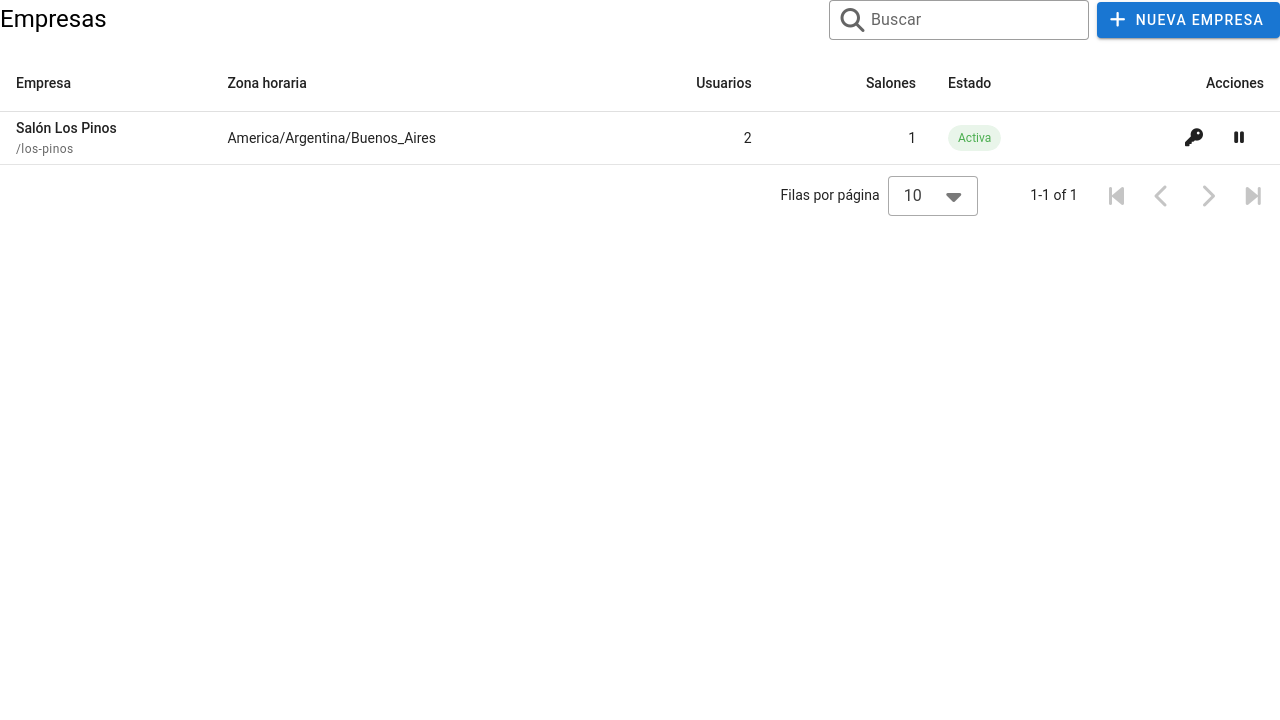
Scenario: EmpresasPlataforma › resetear la clave del dueño › con un único dueño: confirma, genera la clave y la muestra
Click the button named "Resetear la clave del dueño de Salón Los Pinos". click: (1194, 138)
box: [1174, 118, 1214, 158]
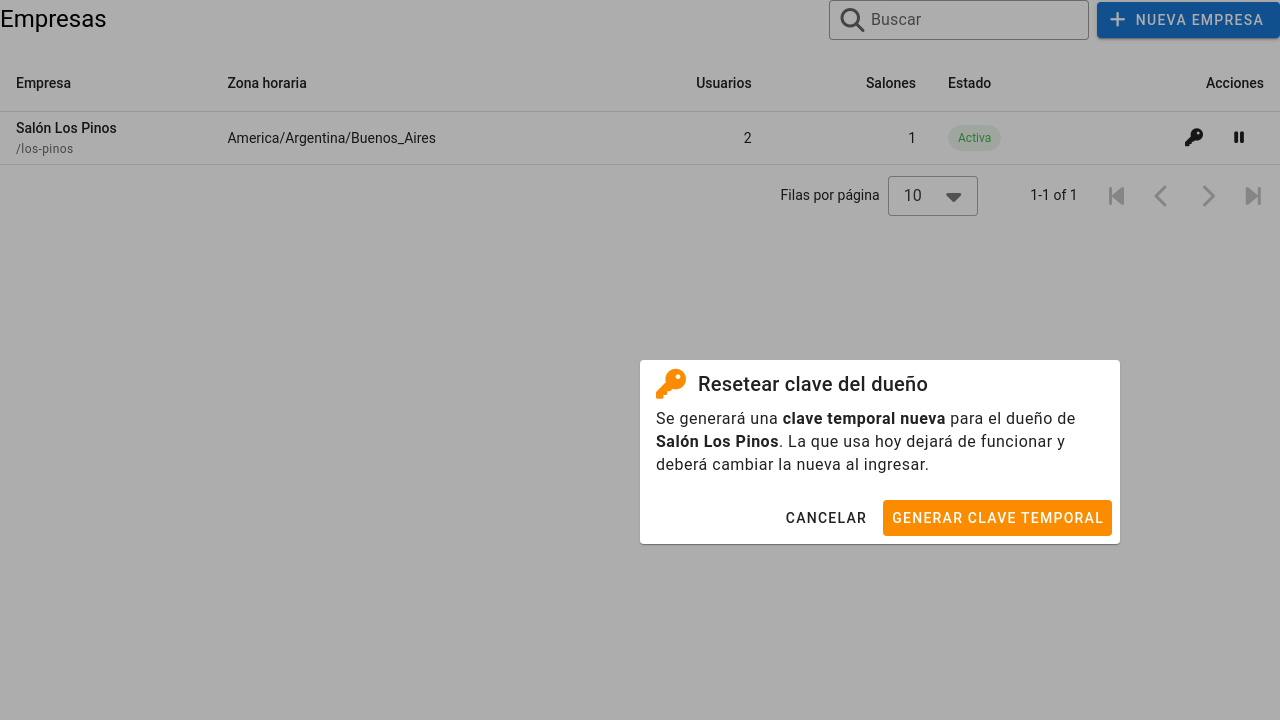
Expected: the text "La que usa hoy dejará de funcionar" is shown, [656, 432, 1065, 474]
Expected: the button "Generar clave temporal" is shown
Click the button "Generar clave temporal". click: (998, 518)
box: [883, 500, 1112, 536]
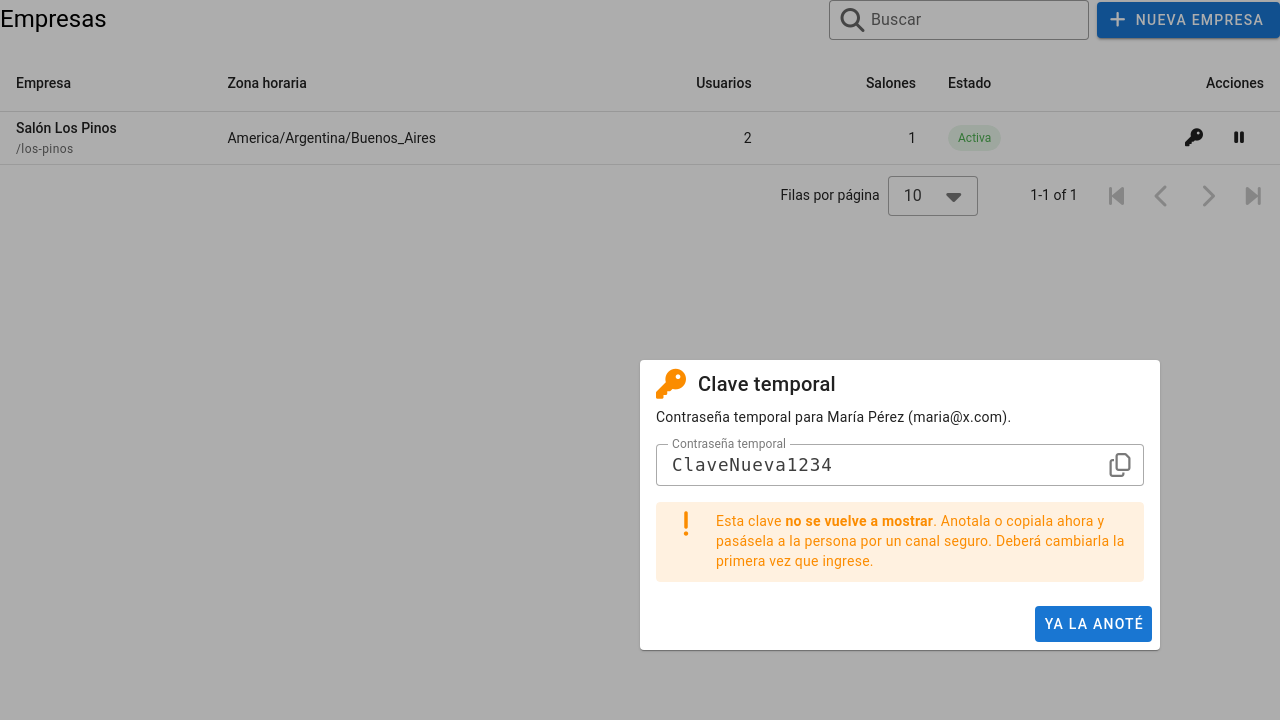
Expected: the field labelled "Contraseña temporal" holds "ClaveNueva1234", [656, 444, 1108, 486]
Expected: the text "María Pérez (maria@x.com)" is shown, [656, 409, 1011, 425]
